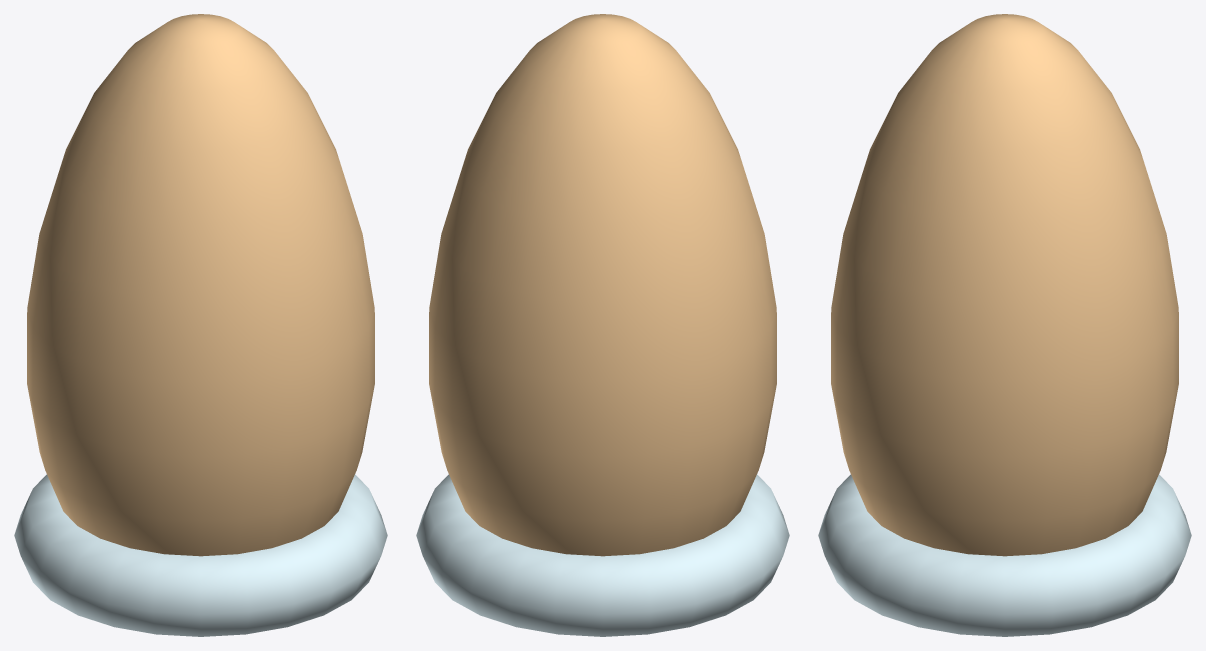
Rendered from egg.glb.
The picture shows the model from 3 angles, left to right: view 1: azimuth 30°, elevation 25°; view 2: azimuth 150°, elevation 25°; view 3: azimuth 270°, elevation 25°; orthographic projection.
Visible parts, largest first — view 1: egg; view 2: egg; view 3: egg.
Boxes of the visible parts, <box> form: egg: <box>14,14,387,636</box>; egg: <box>416,14,789,636</box>; egg: <box>818,14,1191,636</box>.
Bounding box in the file's own units: 0.5875 × 1 × 0.5875.
1 material, 1 textured.
